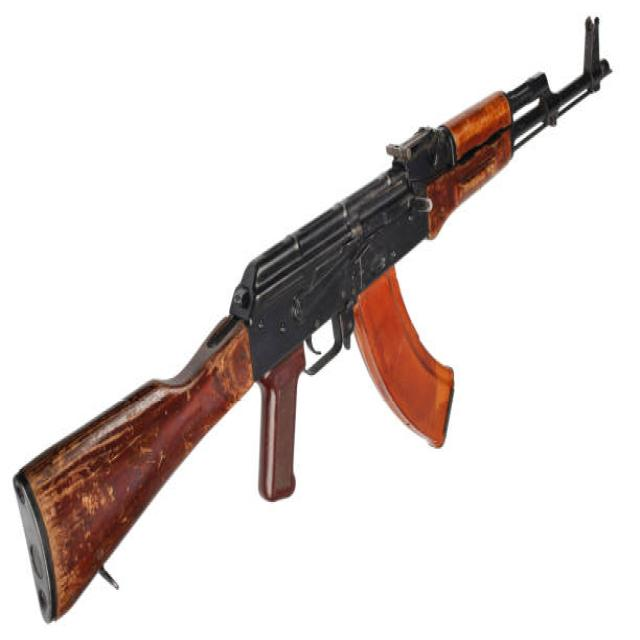rifle: (12, 4, 618, 631)
